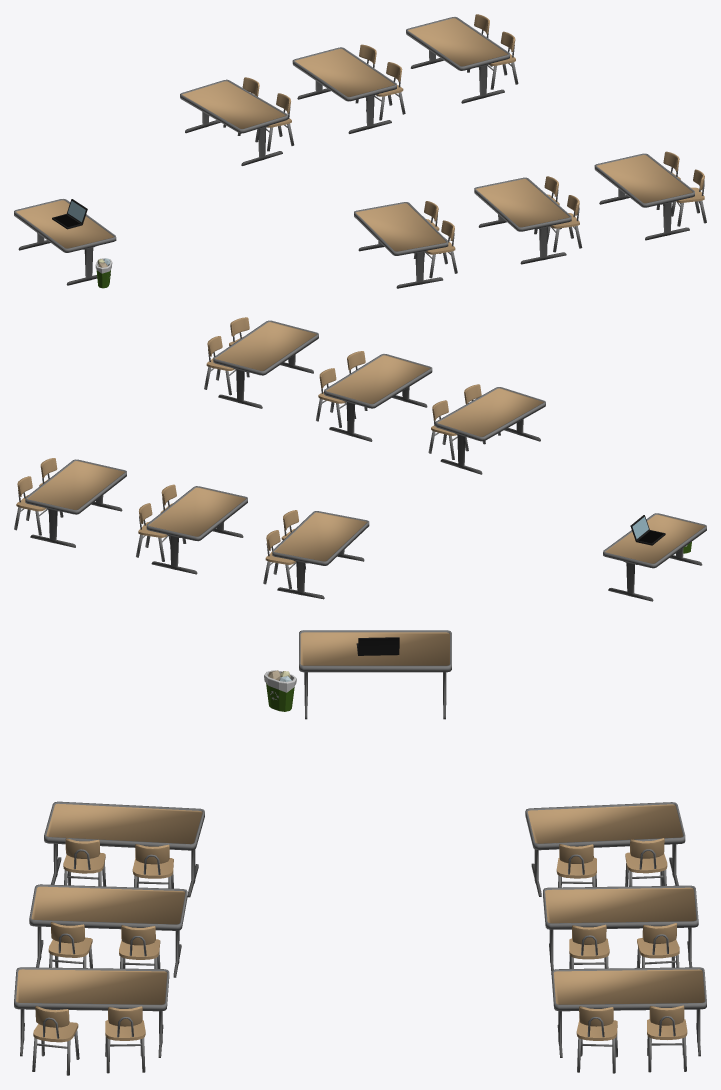
The model's file is d-roomcomp-t-auditorium-in.glb.
3 renders of one model, top to bottom at view 1: azimuth 30°, elevation 25°; view 2: azimuth 150°, elevation 25°; view 3: azimuth 270°, elevation 25°, orthographic. The views are drawn at different scales.
Parts seen in each view (by area): view 1: officeDesk.016, officeDesk.014, officeDesk.018, officeDesk.019, officeDesk.015, officeDesk.017, officeDesk.020, Chair.027, Chair.031, Chair.035, Chair.029, Chair.033 (+2 smaller); view 2: officeDesk.017, officeDesk.015, officeDesk.019, officeDesk.018, officeDesk.014, officeDesk.016, officeDesk.020, Chair.024, Chair.028, Chair.032, Chair.030, Chair.034 (+2 smaller); view 3: officeDesk.019, officeDesk.015, officeDesk.017, officeDesk.016, officeDesk.018, officeDesk.014, officeDesk.020, Chair.027, Chair.025, Chair.024, Chair.026, Chair.035 (+9 smaller).
Boxes of the visible parts, x1=… form: officeDesk.016: x1=180, y1=79, x2=287, y2=165; officeDesk.014: x1=292, y1=47, x2=396, y2=133; officeDesk.018: x1=406, y1=17, x2=509, y2=103; officeDesk.019: x1=594, y1=153, x2=694, y2=240; officeDesk.015: x1=474, y1=177, x2=571, y2=264; officeDesk.017: x1=354, y1=202, x2=448, y2=288; officeDesk.020: x1=14, y1=199, x2=116, y2=285; Chair.027: x1=671, y1=169, x2=706, y2=226; Chair.031: x1=547, y1=195, x2=582, y2=252; Chair.035: x1=424, y1=220, x2=457, y2=278; Chair.029: x1=366, y1=62, x2=405, y2=120; Chair.033: x1=255, y1=93, x2=294, y2=151; officeDesk.017: x1=435, y1=387, x2=545, y2=474; officeDesk.015: x1=324, y1=354, x2=432, y2=441; officeDesk.019: x1=213, y1=320, x2=318, y2=408; officeDesk.018: x1=25, y1=459, x2=126, y2=547; officeDesk.014: x1=146, y1=486, x2=247, y2=574; officeDesk.016: x1=272, y1=511, x2=369, y2=599; officeDesk.020: x1=603, y1=513, x2=706, y2=601; Chair.024: x1=14, y1=476, x2=48, y2=535; Chair.028: x1=136, y1=503, x2=170, y2=561; Chair.032: x1=263, y1=530, x2=296, y2=588; Chair.030: x1=316, y1=368, x2=356, y2=427; Chair.034: x1=428, y1=400, x2=468, y2=459; officeDesk.019: x1=14, y1=967, x2=169, y2=1057; officeDesk.015: x1=29, y1=884, x2=187, y2=977; officeDesk.017: x1=44, y1=801, x2=204, y2=897; officeDesk.016: x1=525, y1=802, x2=685, y2=896; officeDesk.018: x1=551, y1=967, x2=706, y2=1057; officeDesk.014: x1=543, y1=885, x2=698, y2=974; officeDesk.020: x1=299, y1=630, x2=451, y2=719; Chair.027: x1=32, y1=1006, x2=79, y2=1075; Chair.025: x1=576, y1=1006, x2=617, y2=1073; Chair.024: x1=647, y1=1005, x2=687, y2=1072; Chair.026: x1=105, y1=1006, x2=145, y2=1073; Chair.035: x1=63, y1=838, x2=106, y2=886.
Size of the model in its own units: 13.85 by 1.31 by 10.42.
Materials: 2 (2 with a texture image).
